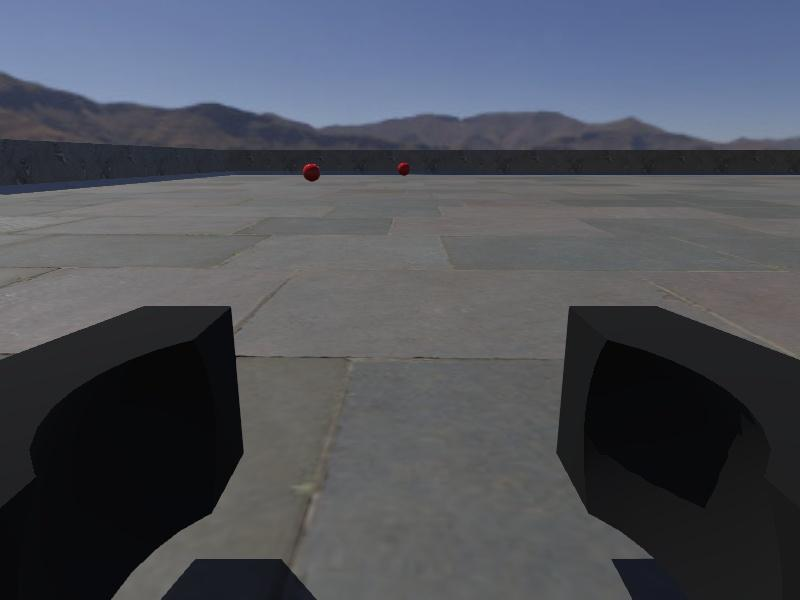red ball: (302, 162, 322, 183), (397, 160, 411, 175)
